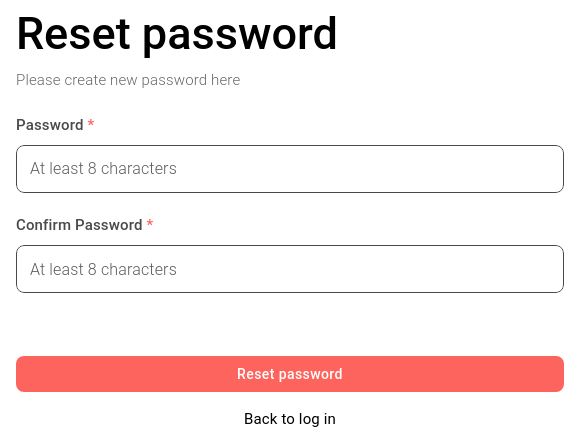
it: Reset Password Page › validates password match
In the password field labelled "Password": [290, 169] box [16,141,564,197], type "12345678"
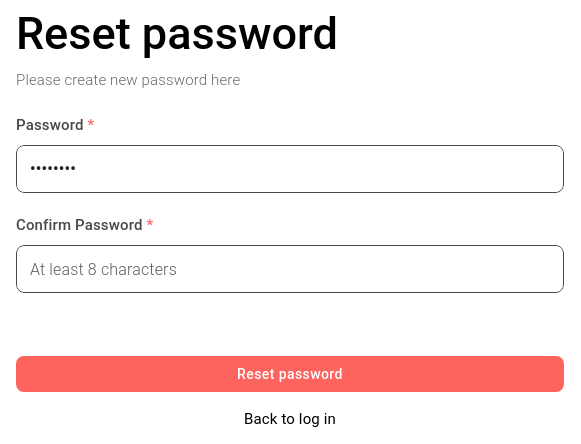
In the password field labelled "Confirm Password": [290, 269] box [16,241,564,297], type "wrongpass"
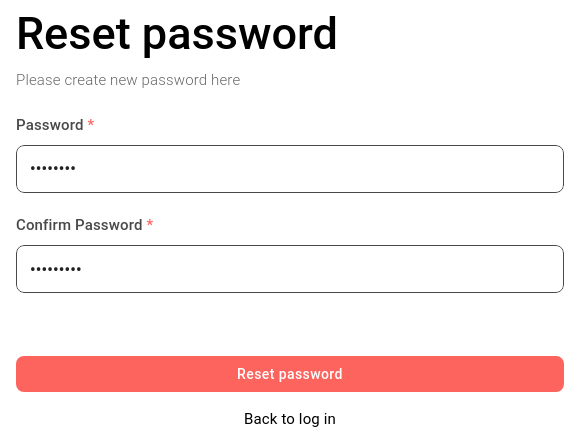
Click the button "Reset password": [290, 374] box [16,356,564,392]
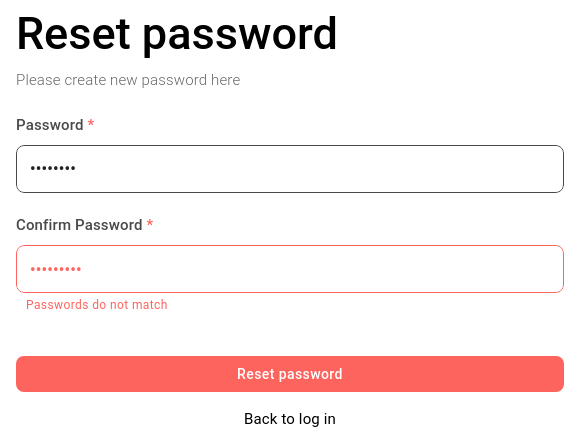
Check: the text "Passwords do not match" is shown, box [26,298,168,312]
